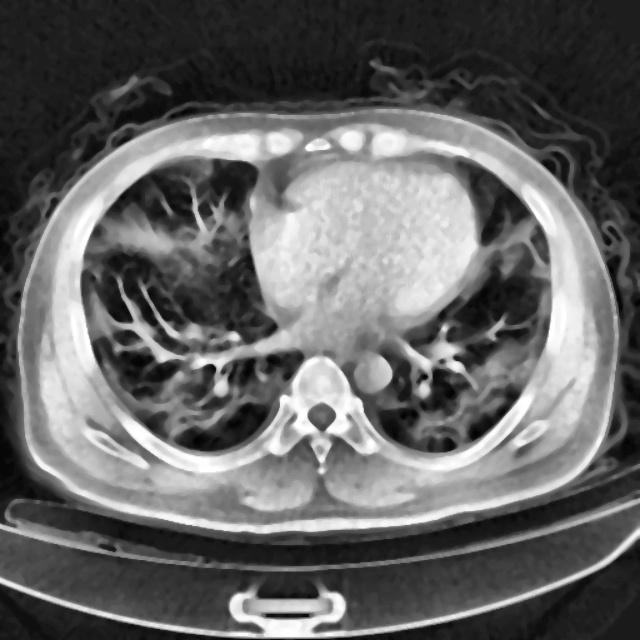covid: (11, 97, 624, 543)
